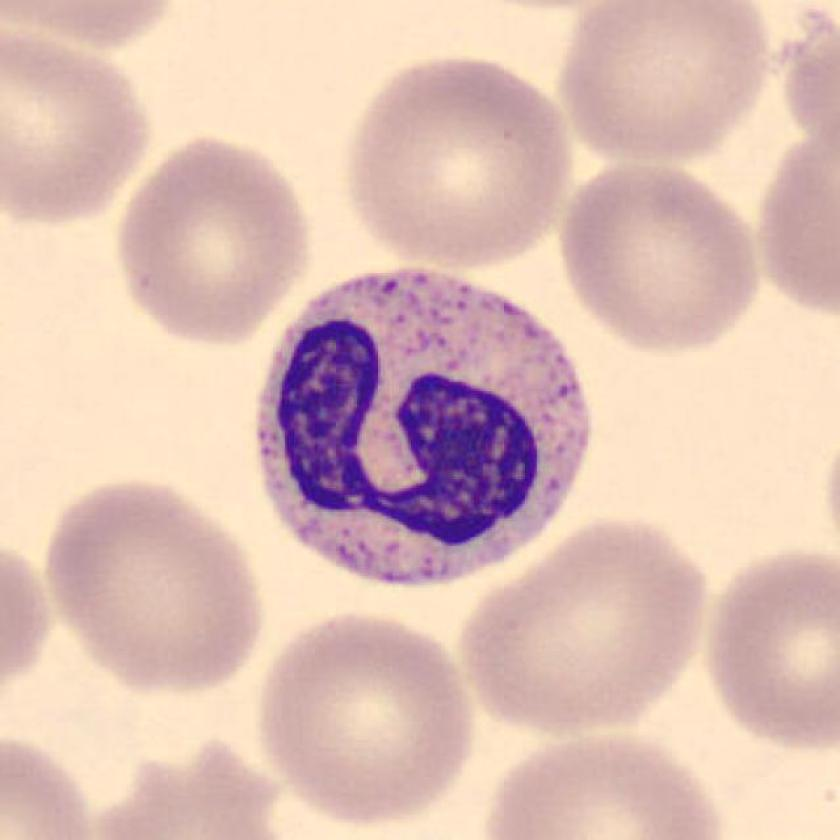neutrophil: (256, 272, 589, 583)
